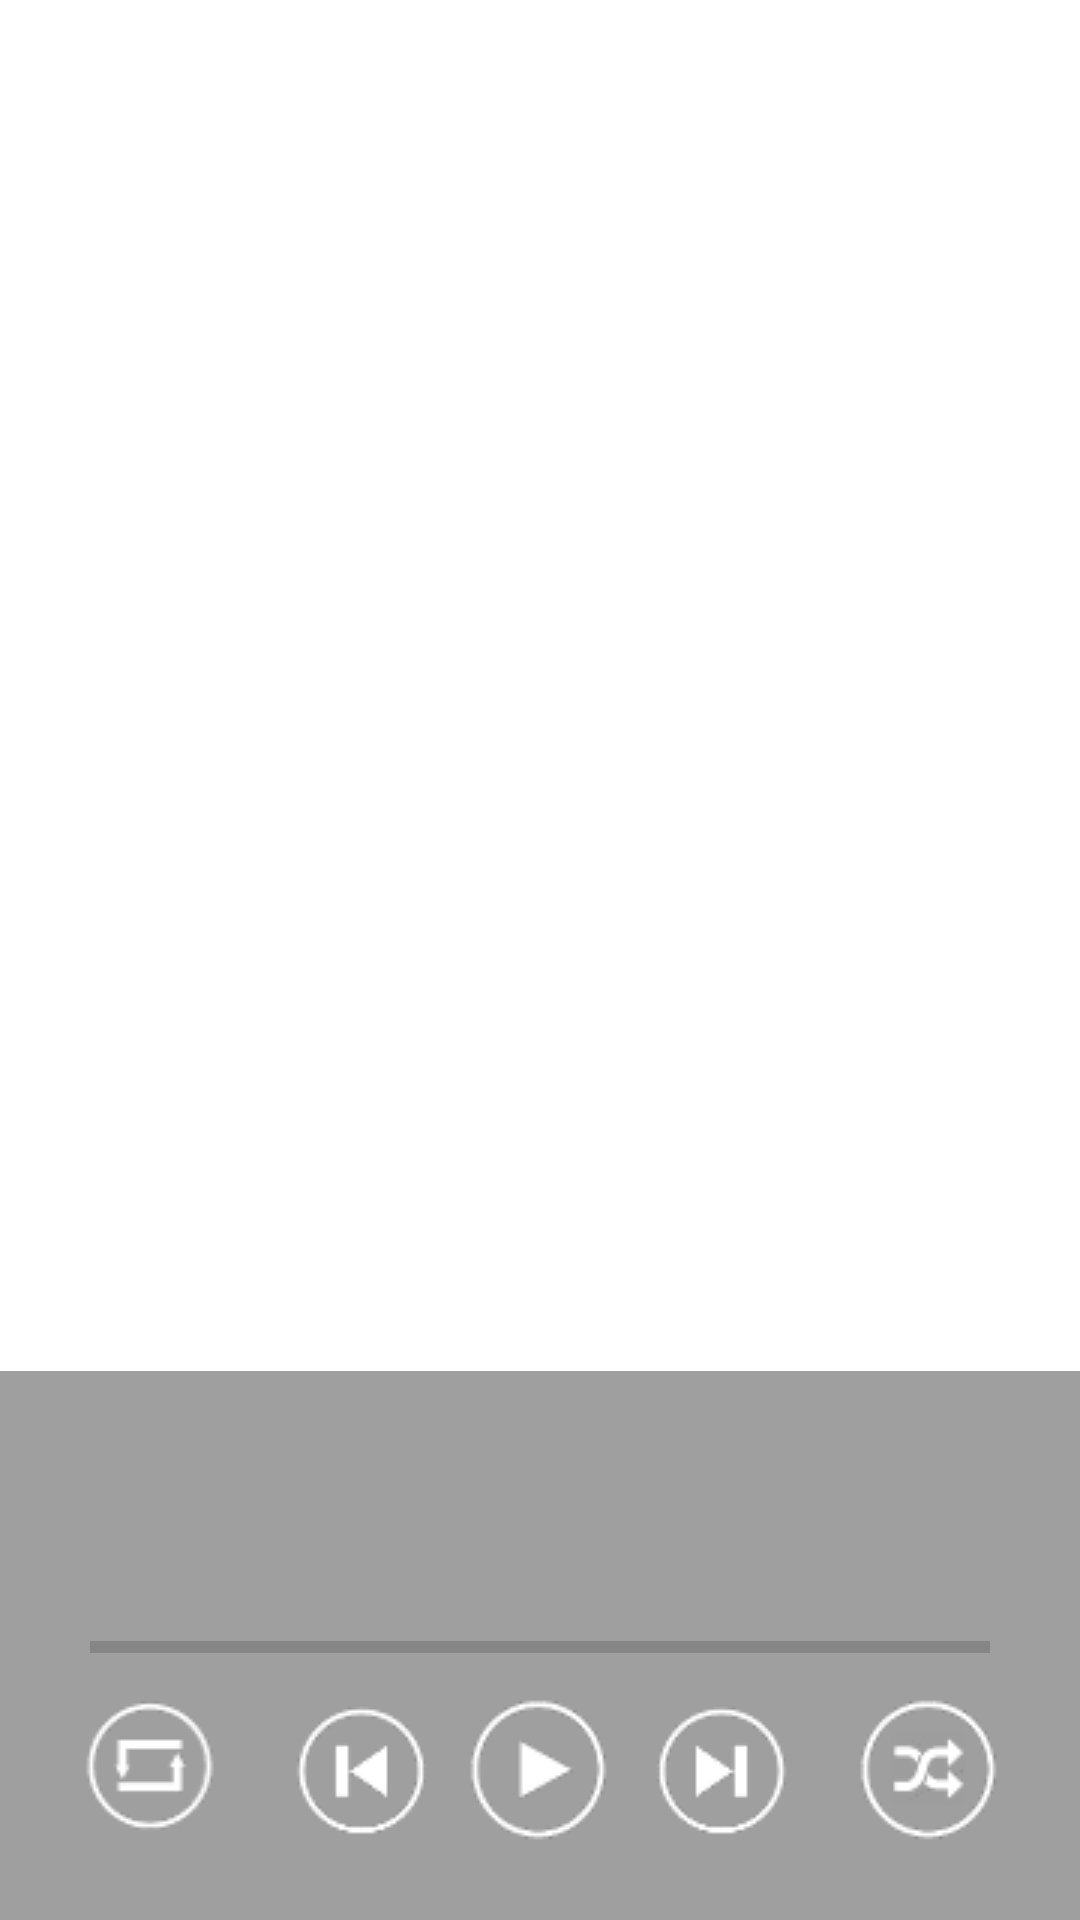

Icon bounding boxes for this 1080w x 1920h phone screenshot, format (x1, y1, x2, y2):
next: (659, 1709, 784, 1834)
previous: (299, 1709, 424, 1834)
